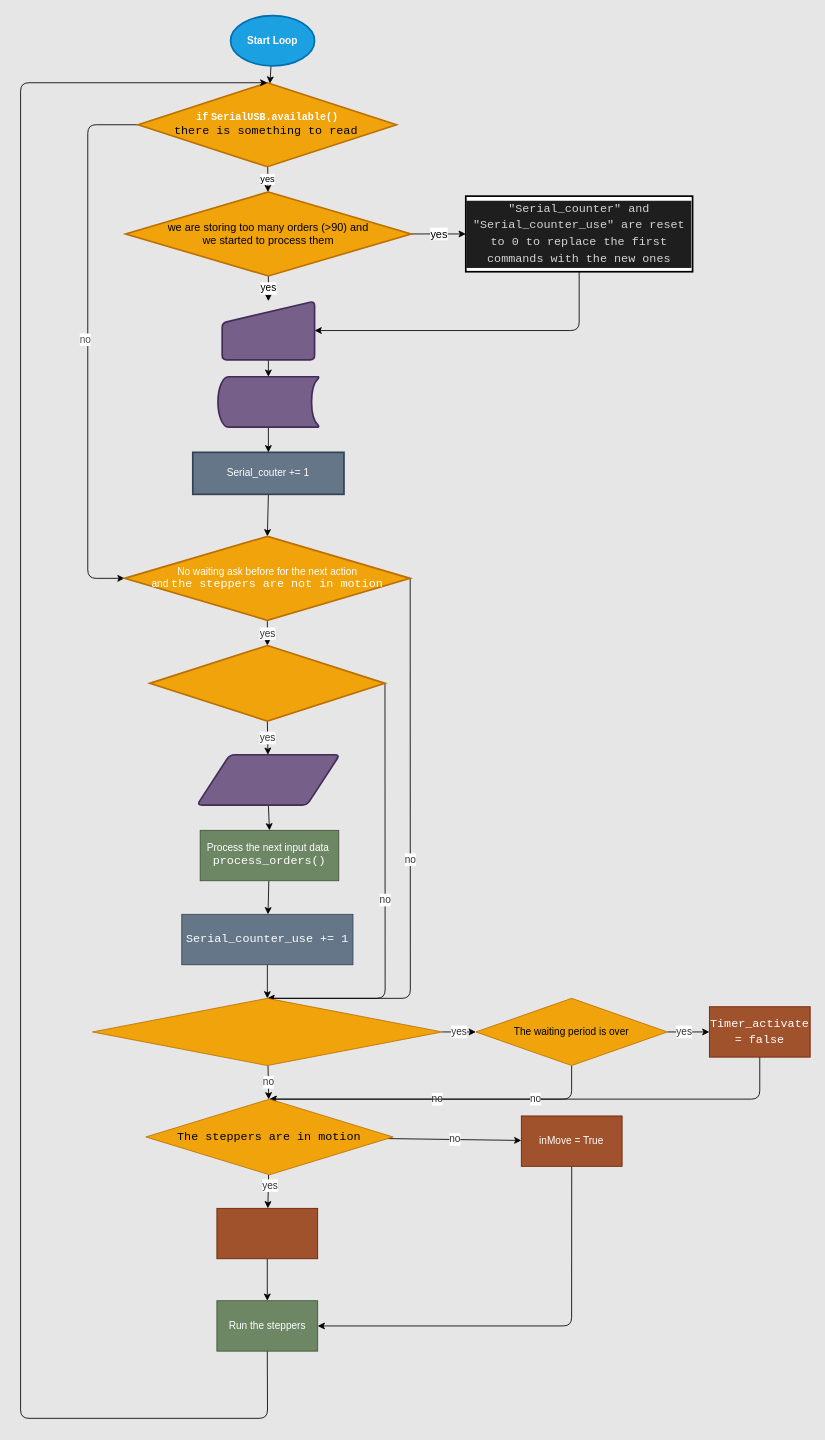
This 825x1440 diagram has some shape labels left out. Here are the shapes that lost their labels. From the top down, the centre of each, then its label:
(x=268, y=330): Reads the serial port
(x=268, y=401): String array " Serial_input "
(x=267, y=683): Next Serial_input is not empty
(x=268, y=779): Serial_input
(x=267, y=1032): A waiting have been asked before for the next action
(x=267, y=1233): inMove = false
